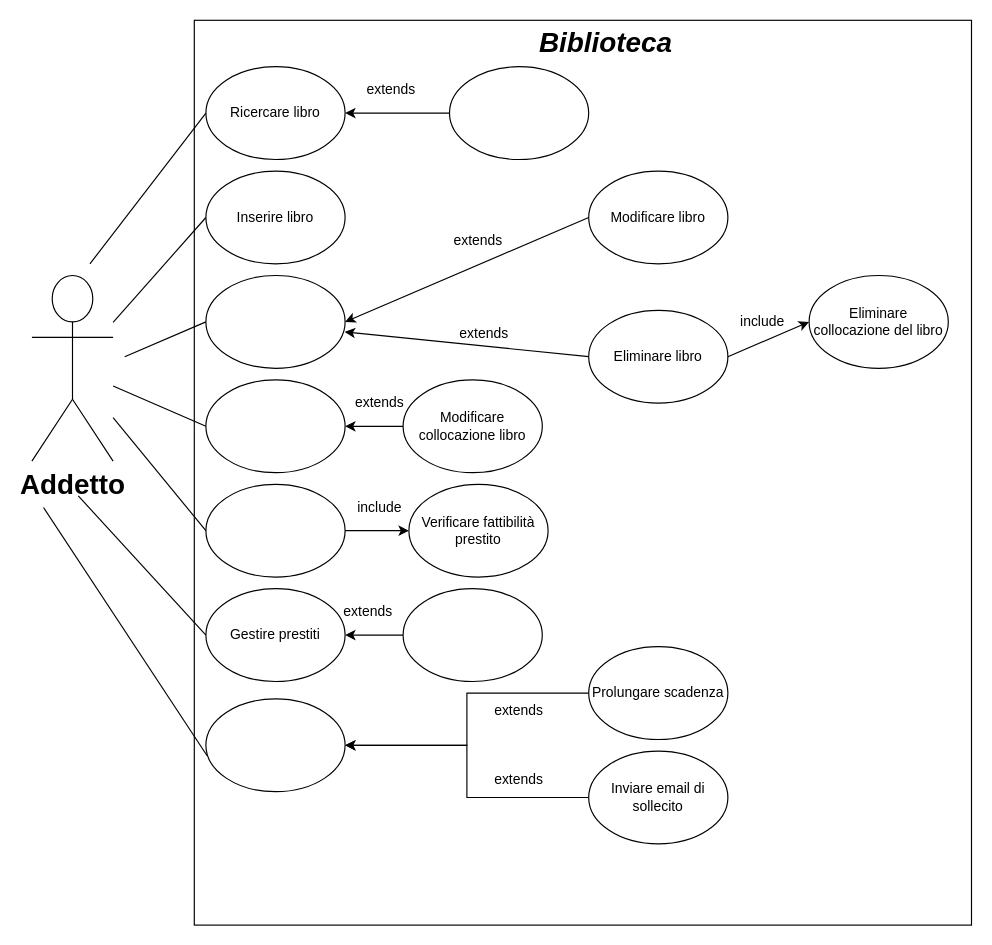
Some shapes in this 992 by 945 pixel diagram are drawn without their labels. Here are the shapes that lost their labels. From the top down, the centre of each, then its label:
At (x=518, y=113): "Visualizzare dettaglio libro".
At (x=275, y=321): "Visualizzare libro".
At (x=275, y=426): "Inserire collocazione libro".
At (x=275, y=530): "Inserire prestito".
At (x=472, y=635): "Modificare prestito".
At (x=275, y=745): "Gestire scadenze".
